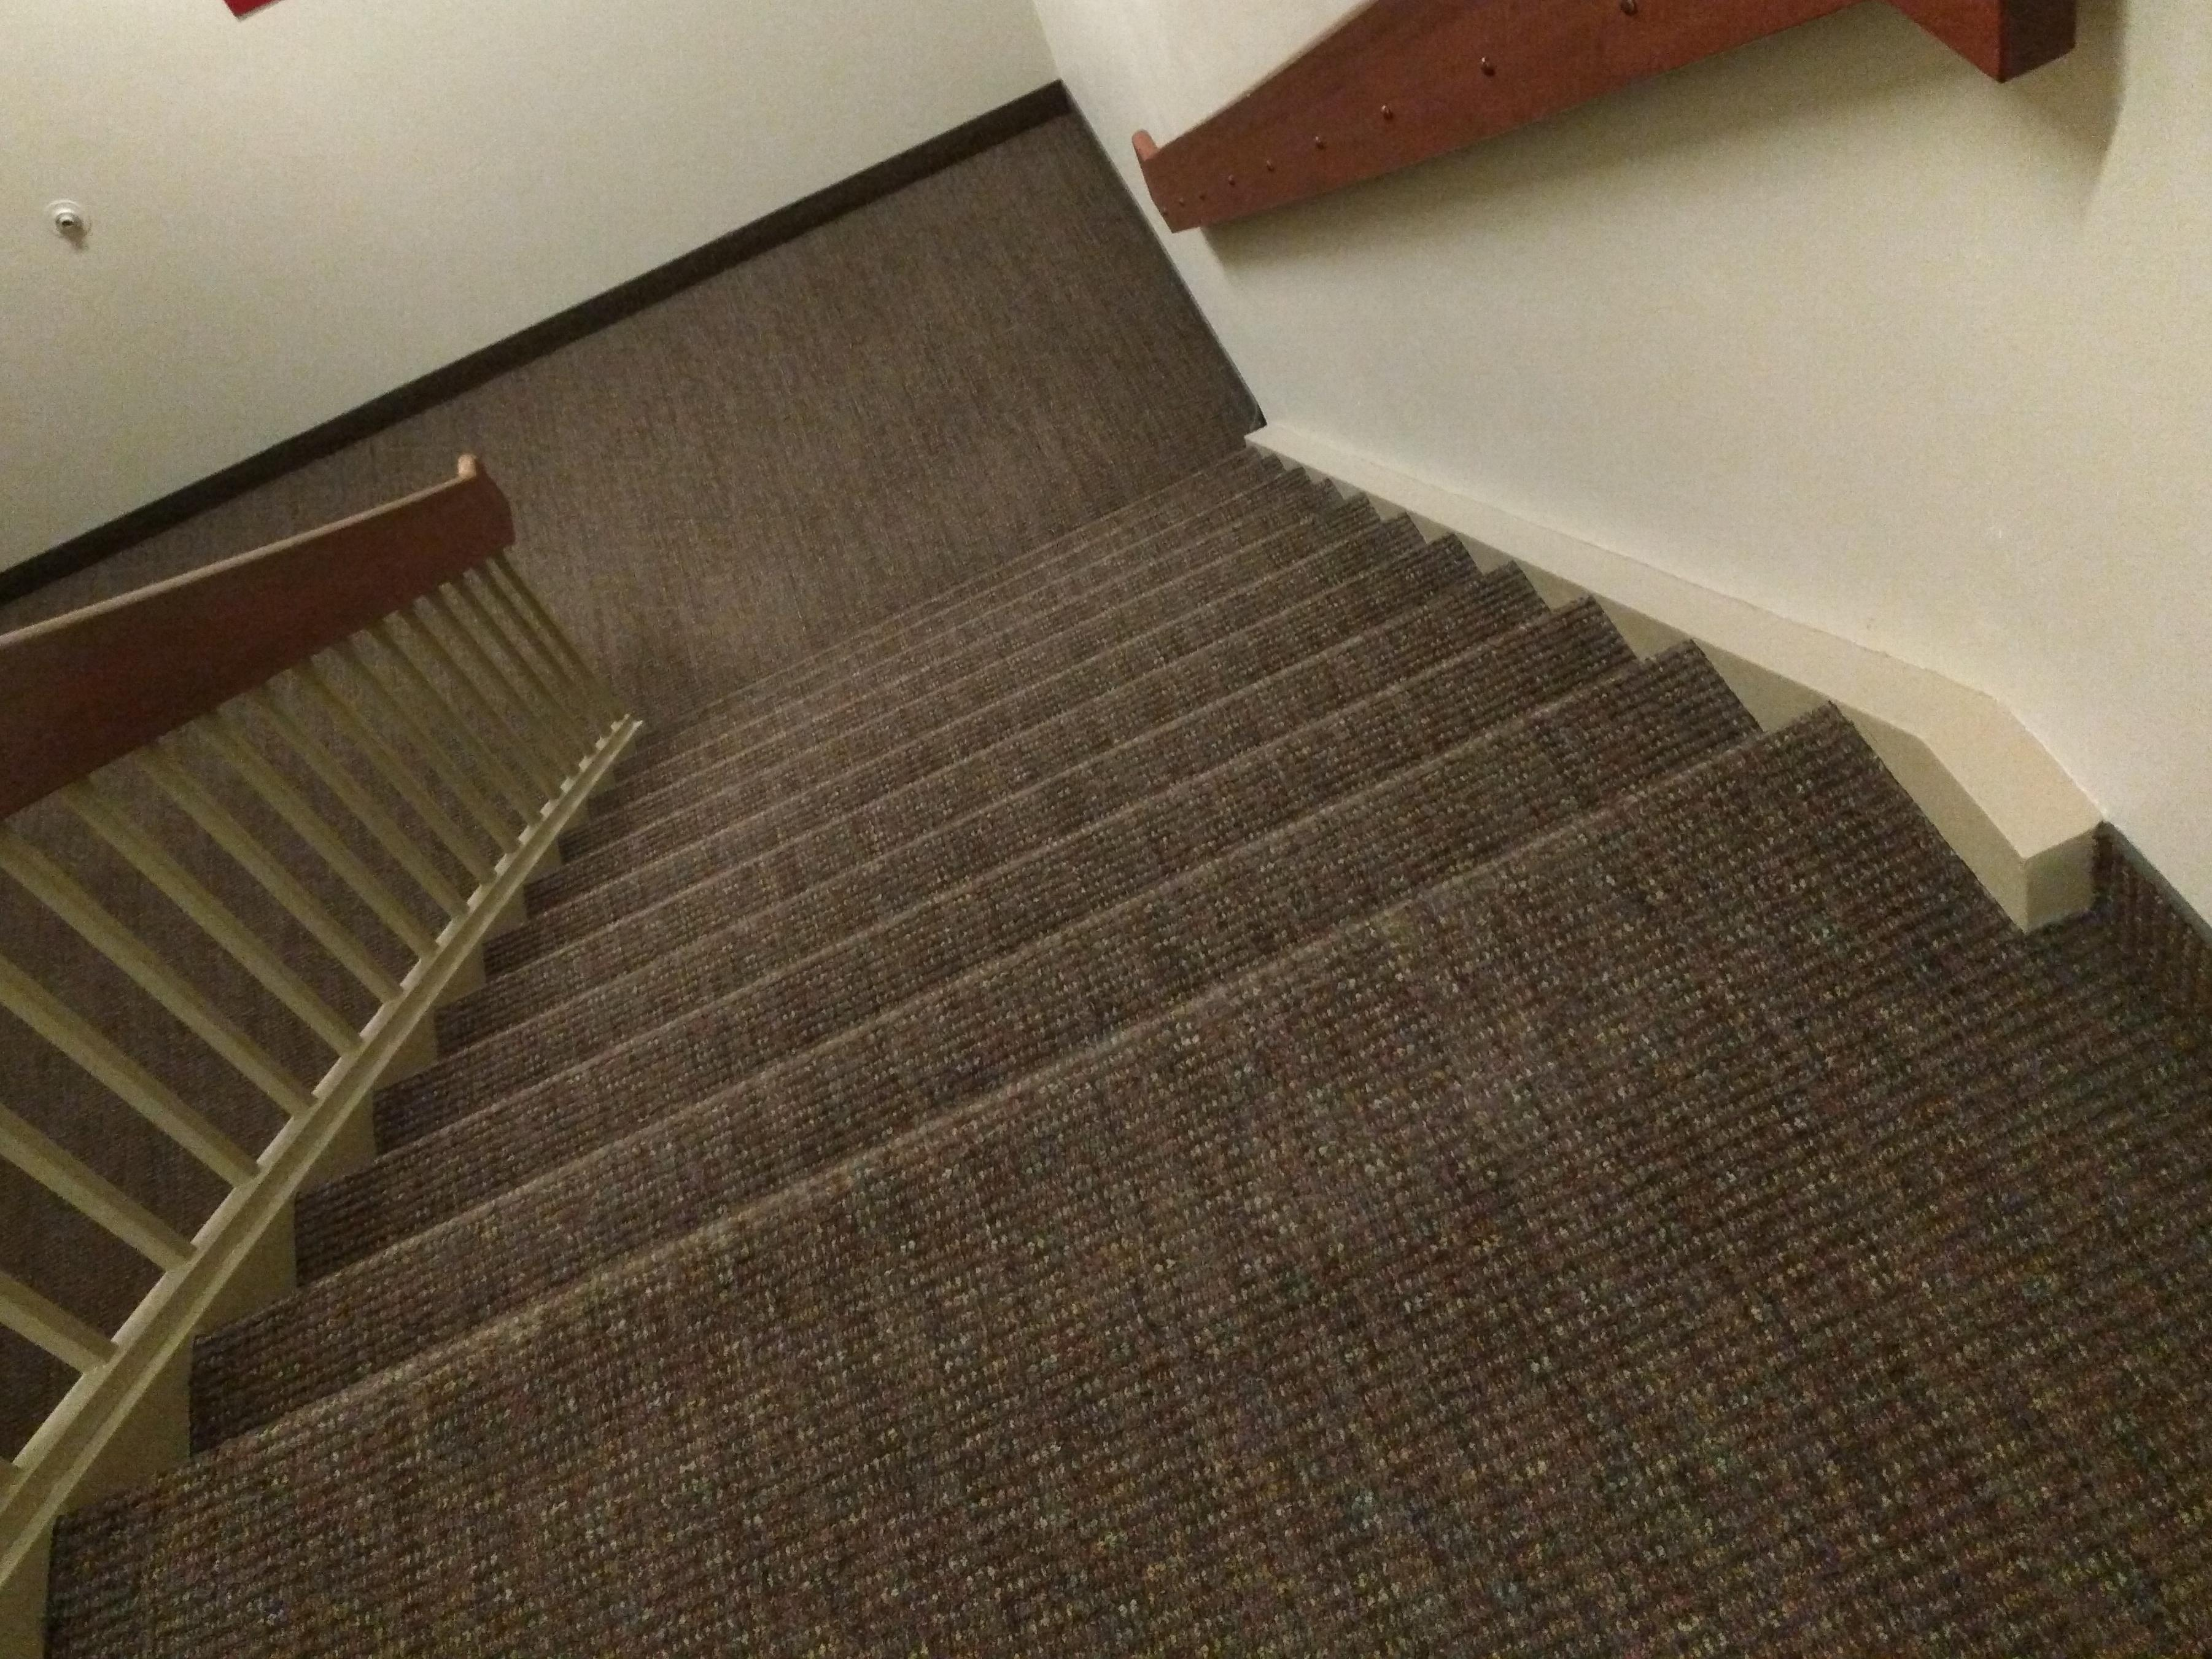stairs_down: (106, 373, 1850, 1452)
